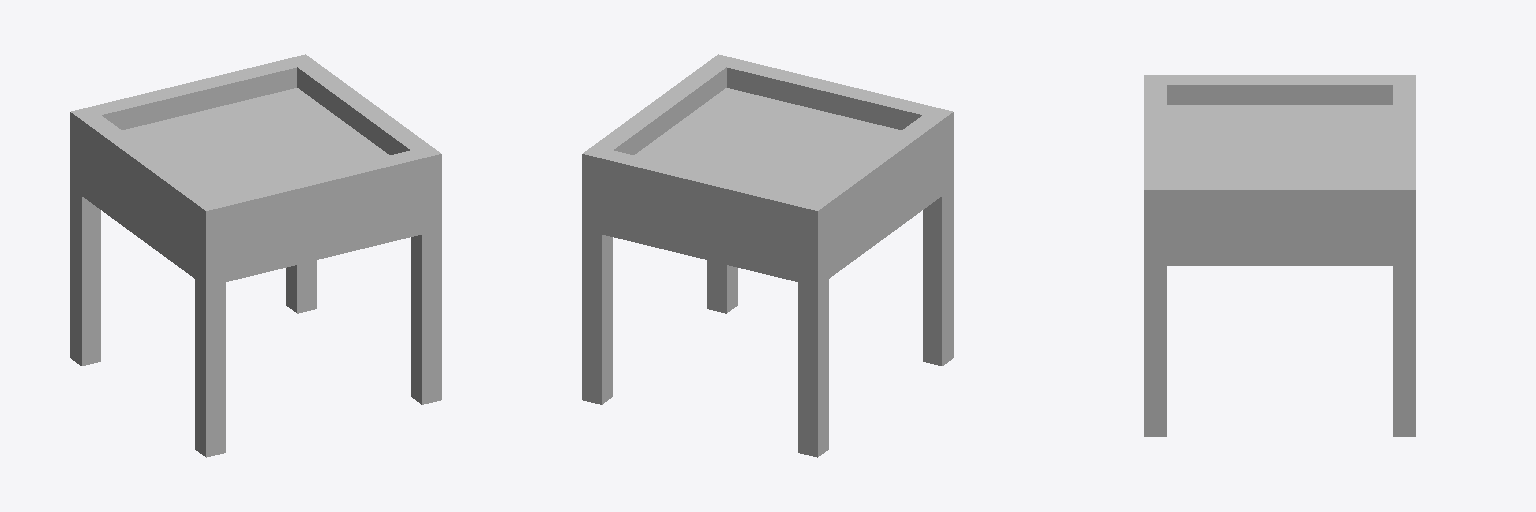
Rendered from sieve_75.obj.
3 views of the same model, side by side, from view 1: azimuth 30°, elevation 25°; view 2: azimuth 150°, elevation 25°; view 3: azimuth 270°, elevation 25° (orthographic).
Parts seen in each view (by area): view 1: Cube_Cube_+y, Cube_Cube_+x; view 2: Cube_Cube_+y, Cube_Cube_+x; view 3: Cube_Cube_+y, Cube_Cube_+x.
Part boxes in pixels (bbox=[...]): Cube_Cube_+y: bbox=[70, 54, 441, 457]; Cube_Cube_+x: bbox=[122, 88, 388, 197]; Cube_Cube_+y: bbox=[582, 54, 953, 457]; Cube_Cube_+x: bbox=[635, 88, 901, 197]; Cube_Cube_+y: bbox=[1144, 75, 1415, 436]; Cube_Cube_+x: bbox=[1167, 105, 1392, 180].
Size of the model in its own units: 1 by 1 by 1.